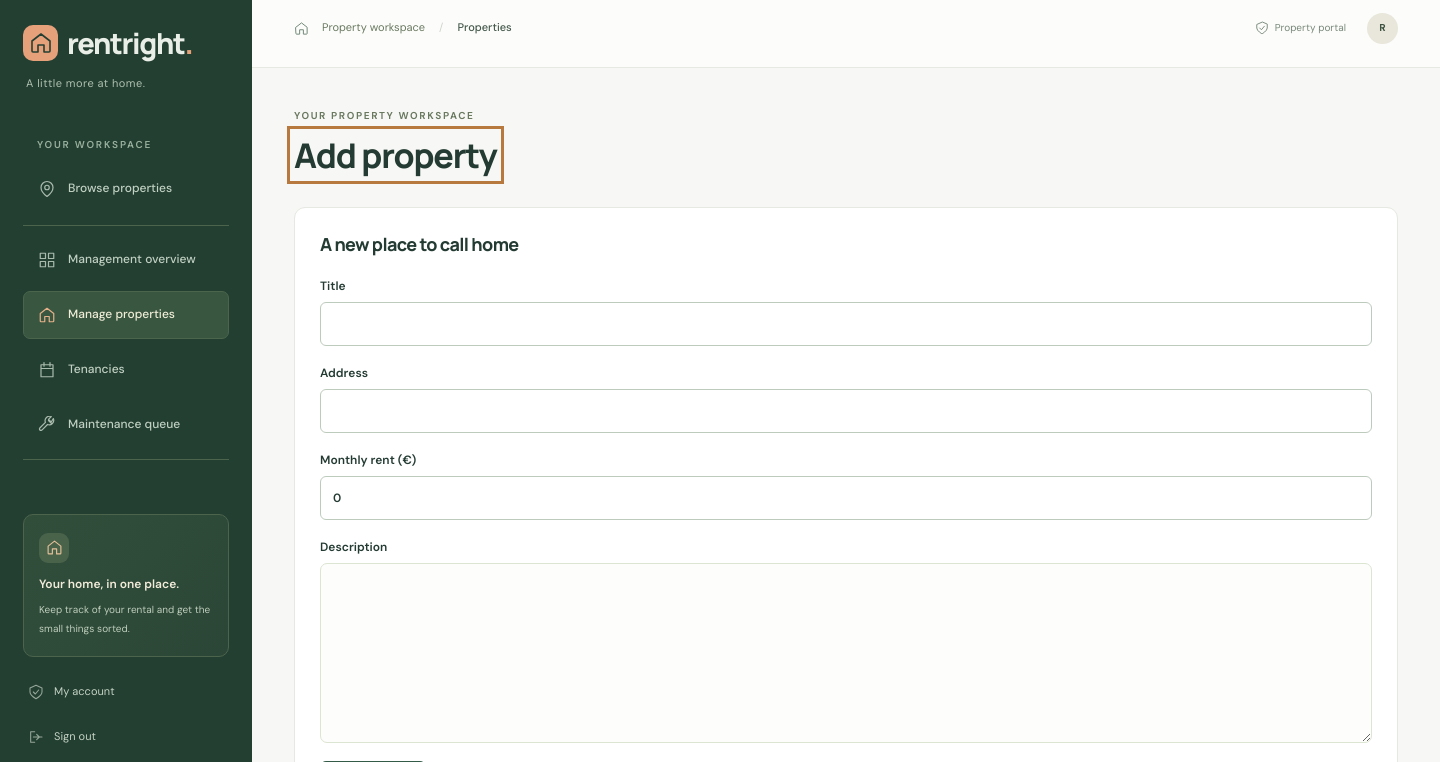
Test case: creates a property with only allow-listed fields and a fresh CSRF token
In the field labelled "Title": (846, 324) [320,302,1372,346], type "New home"
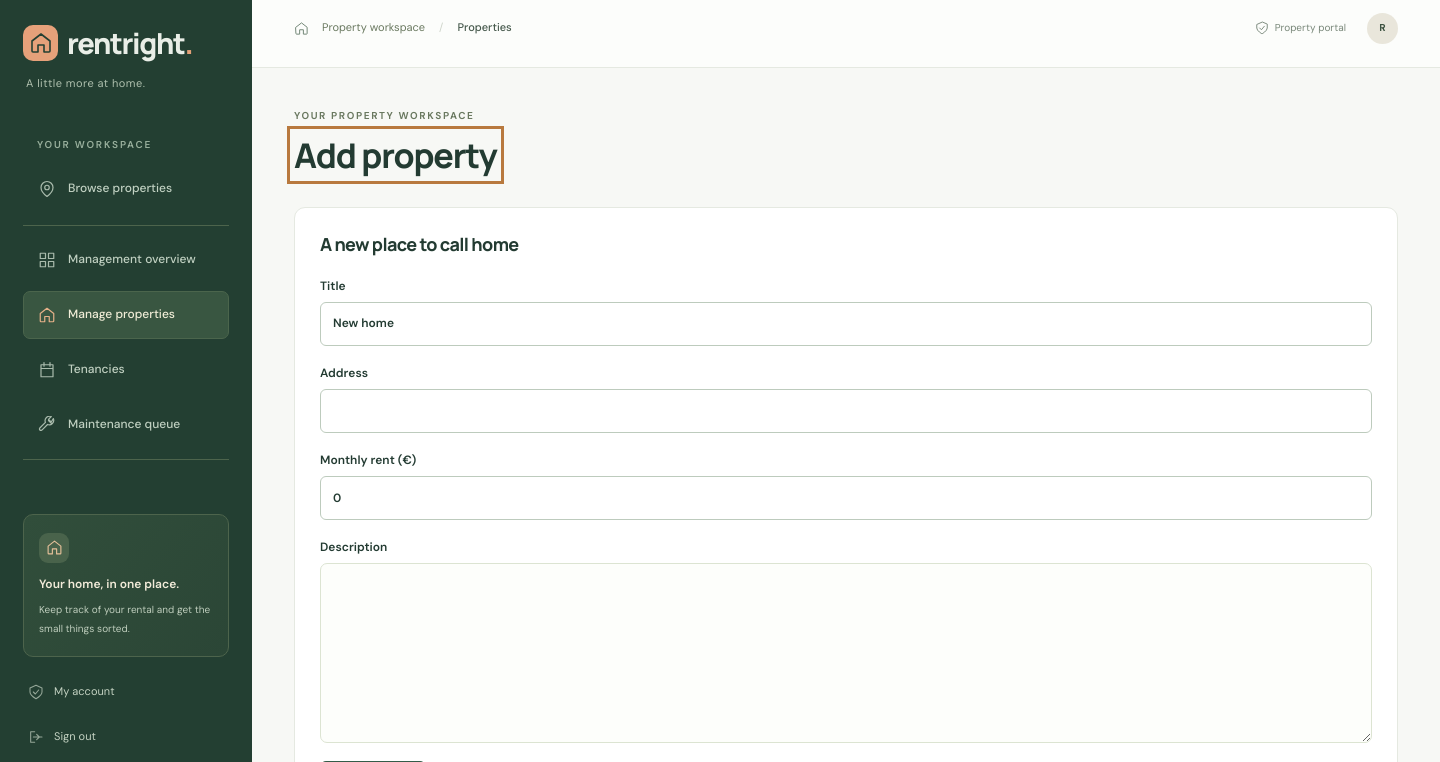
In the field labelled "Address": (846, 411) [320,389,1372,433], type "Fictional address"
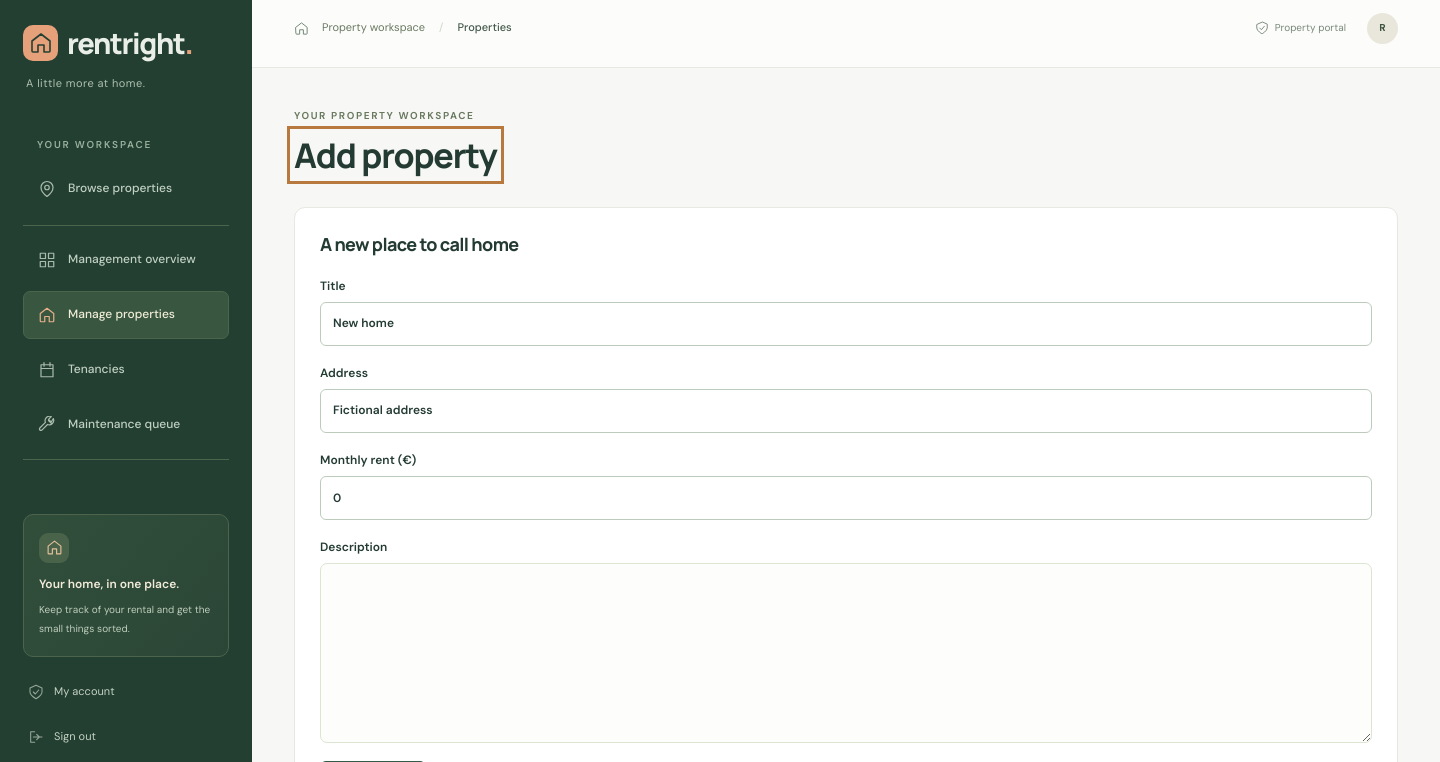
Replace the text in the number field labelled "Monthly rent (€)" with "1400": (846, 498) [320,476,1372,520]
(page scrolled)
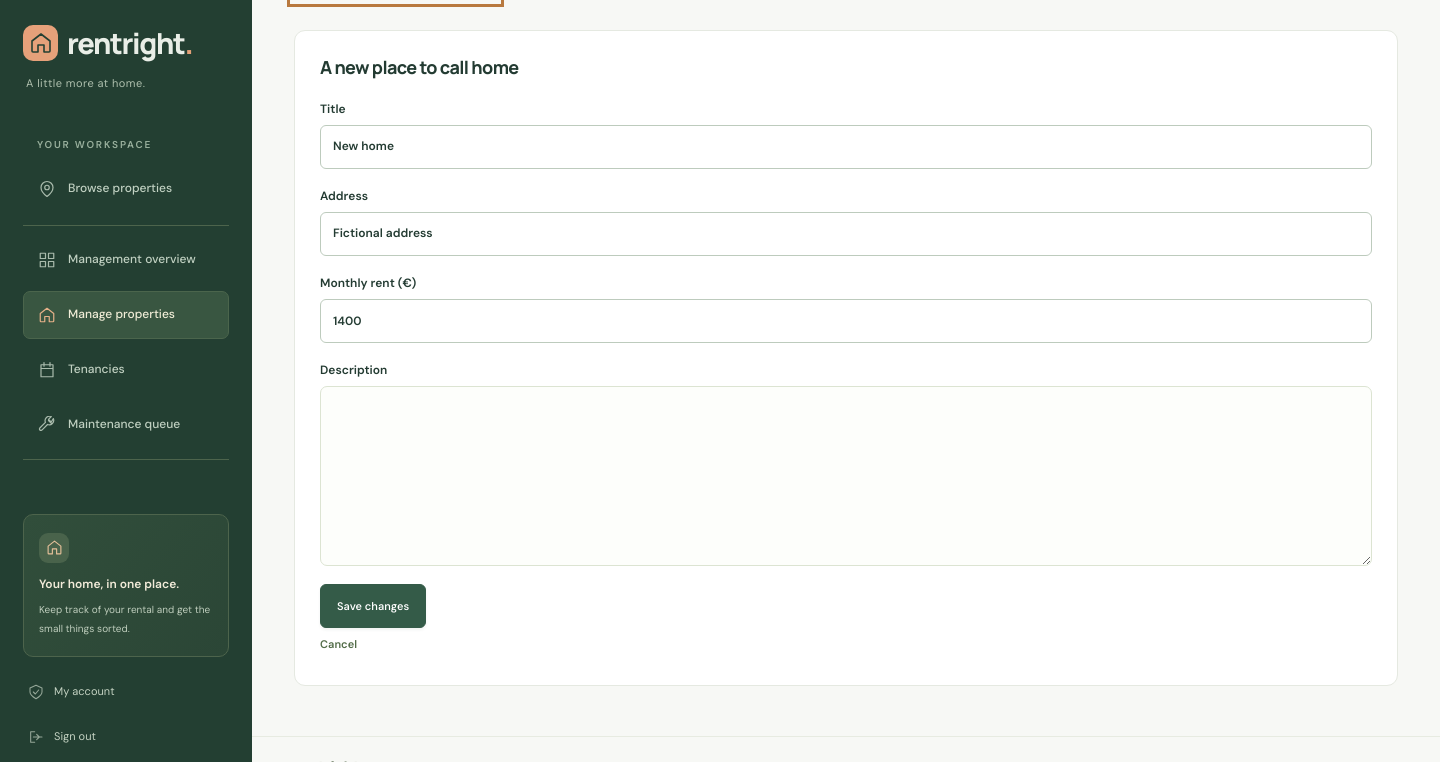
Click the button "Save changes": (373, 606) [320,584,426,628]
(page scrolled)
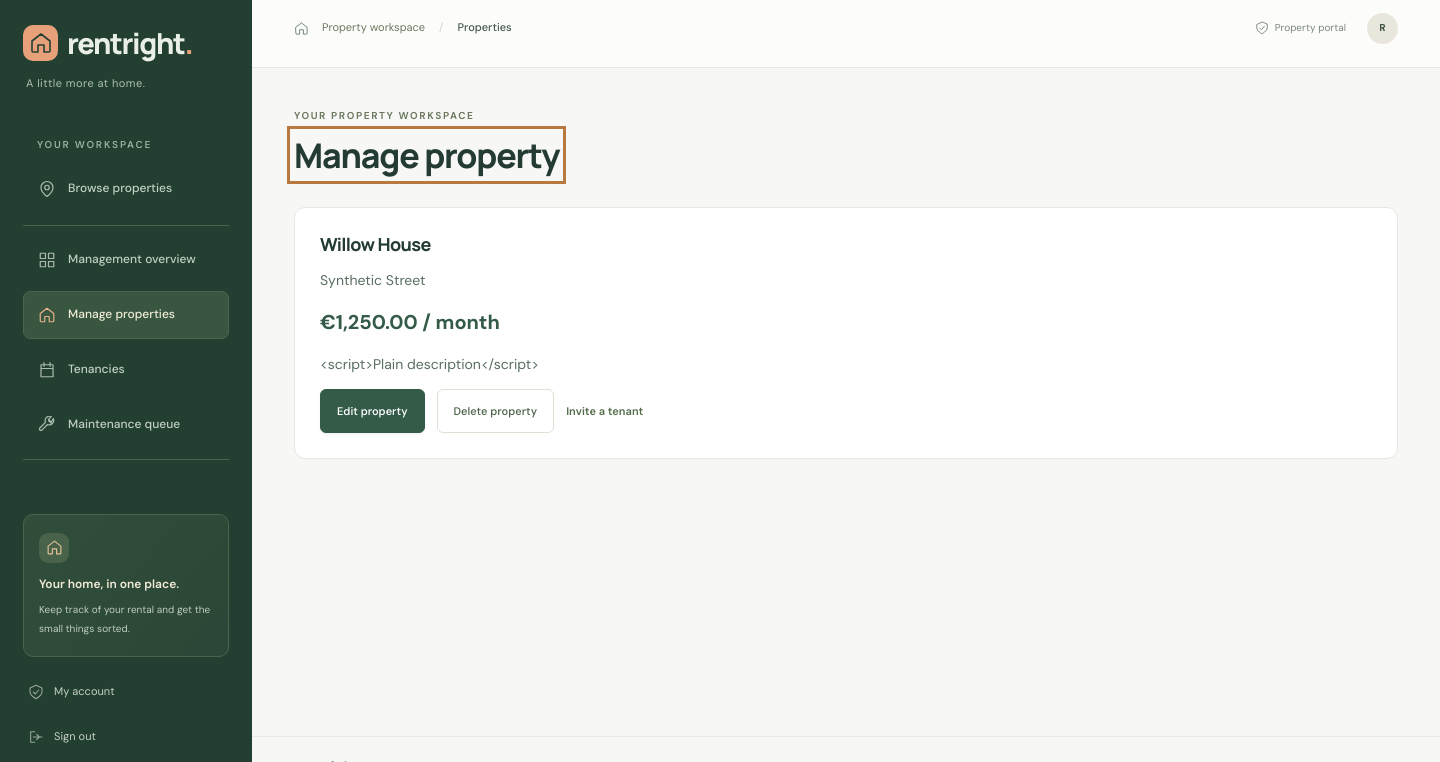
Now the heading "Manage property" is shown, box [294,133,559,177]
